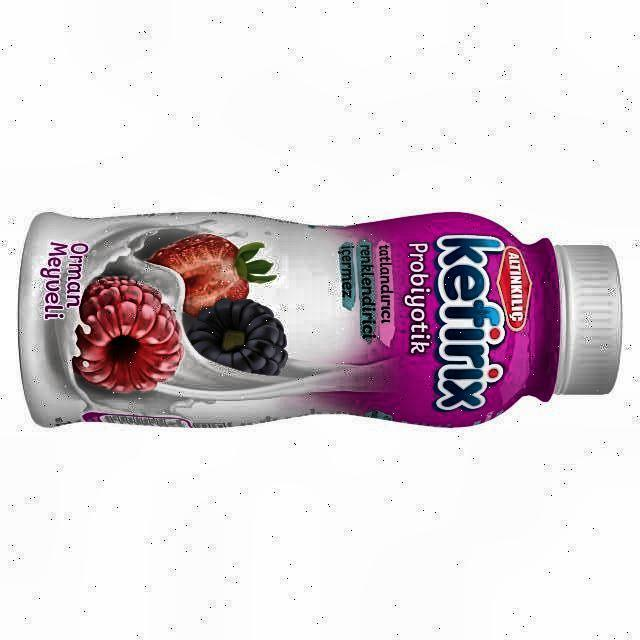plastic: (18, 213, 621, 426)
